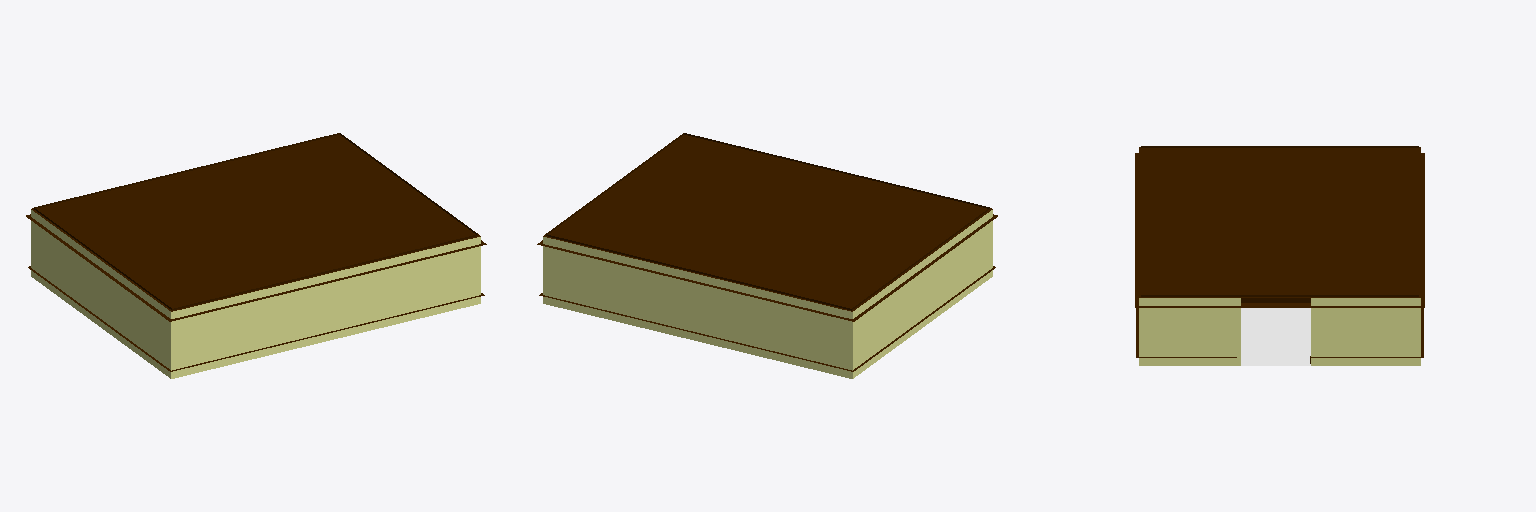
Rendered from Mesh_Diner_Hall01.obj.
The picture shows the model from 3 angles: view 1: azimuth 30°, elevation 25°; view 2: azimuth 150°, elevation 25°; view 3: azimuth 270°, elevation 25°; orthographic projection.
Visible parts, largest first — view 1: Mesh_Dinner_Hall01; view 2: Mesh_Dinner_Hall01; view 3: Mesh_Dinner_Hall01.
Boxes of the visible parts, x1,y1,x2,y2 form: Mesh_Dinner_Hall01: [26, 133, 486, 378]; Mesh_Dinner_Hall01: [537, 133, 997, 378]; Mesh_Dinner_Hall01: [1135, 146, 1424, 365].
Size of the model in its own units: 25.55 by 5.42 by 20.24.